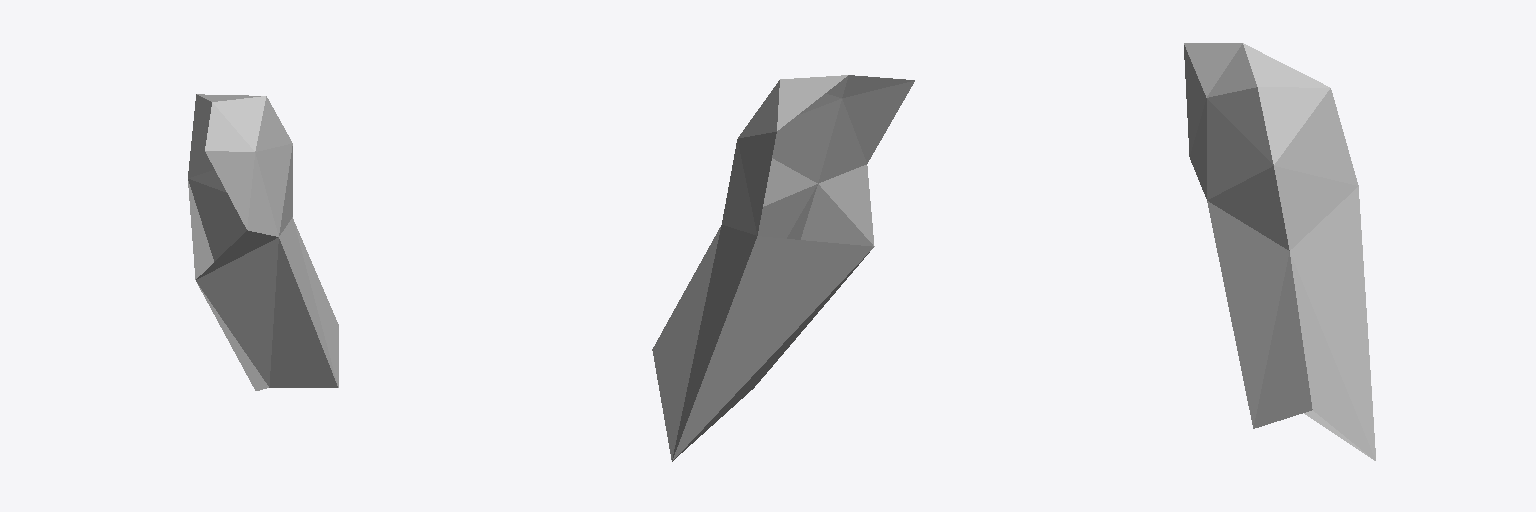
File: 02-left_arm2.obj
3 renders of one model, left to right at view 1: azimuth 30°, elevation 25°; view 2: azimuth 150°, elevation 25°; view 3: azimuth 270°, elevation 25°, orthographic.
Visible parts, largest first — view 1: Man.003_Body.003; view 2: Man.003_Body.003; view 3: Man.003_Body.003.
Part boxes in pixels (bbox=[...]): Man.003_Body.003: bbox=[188, 94, 338, 390]; Man.003_Body.003: bbox=[652, 75, 914, 461]; Man.003_Body.003: bbox=[1184, 43, 1375, 460].
Bounding box in the file's own units: 0.704 × 1.24 × 0.5914.